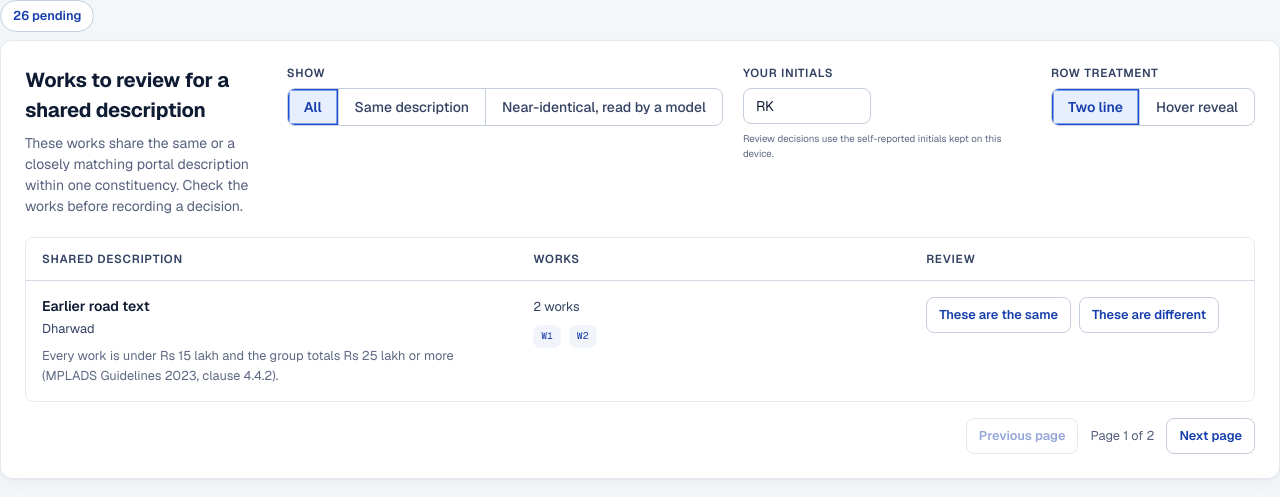
Test: DuplicateReviewQueue › returns to the previous page after reviewing its last row
The image size is (1280, 497).
Click the button "Next page" at (1211, 436), box [1166,418,1255,454]
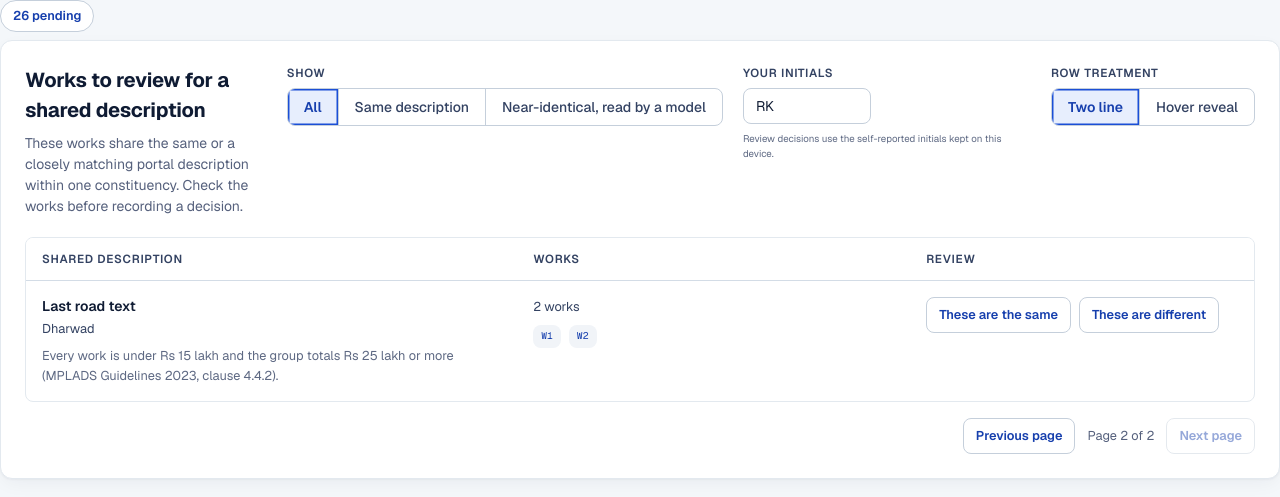
Result: the text "Last road text" is shown at [42,297,136,315]
Click the button "These are the same" at (998, 315), box [926,297,1071,333]
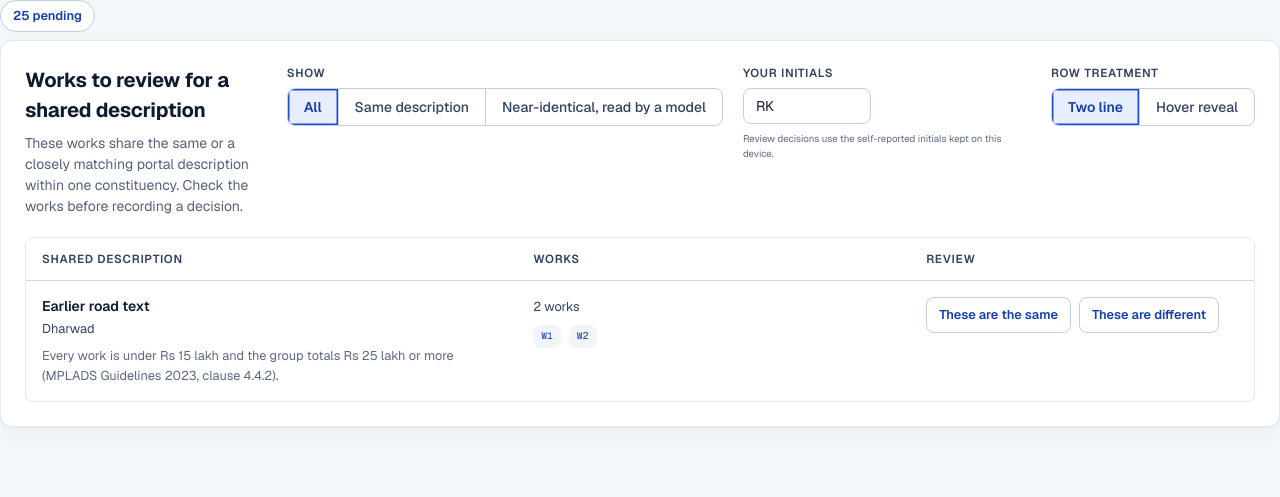
Result: the text "Earlier road text" is shown at [42,297,150,315]
